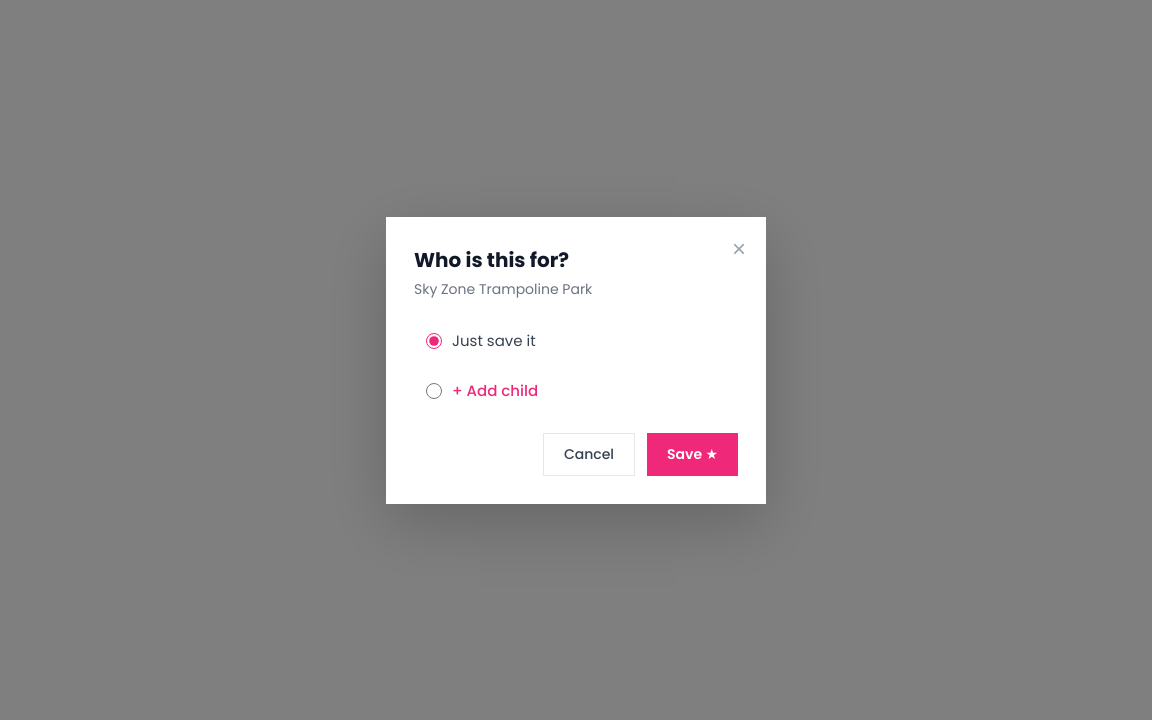
Test: SaveModal › clicking "Add child" reveals name and age fields
The image size is (1152, 720).
Click the radio button labelled "+ Add child".
click(434, 391)  # box [426,383,442,399]
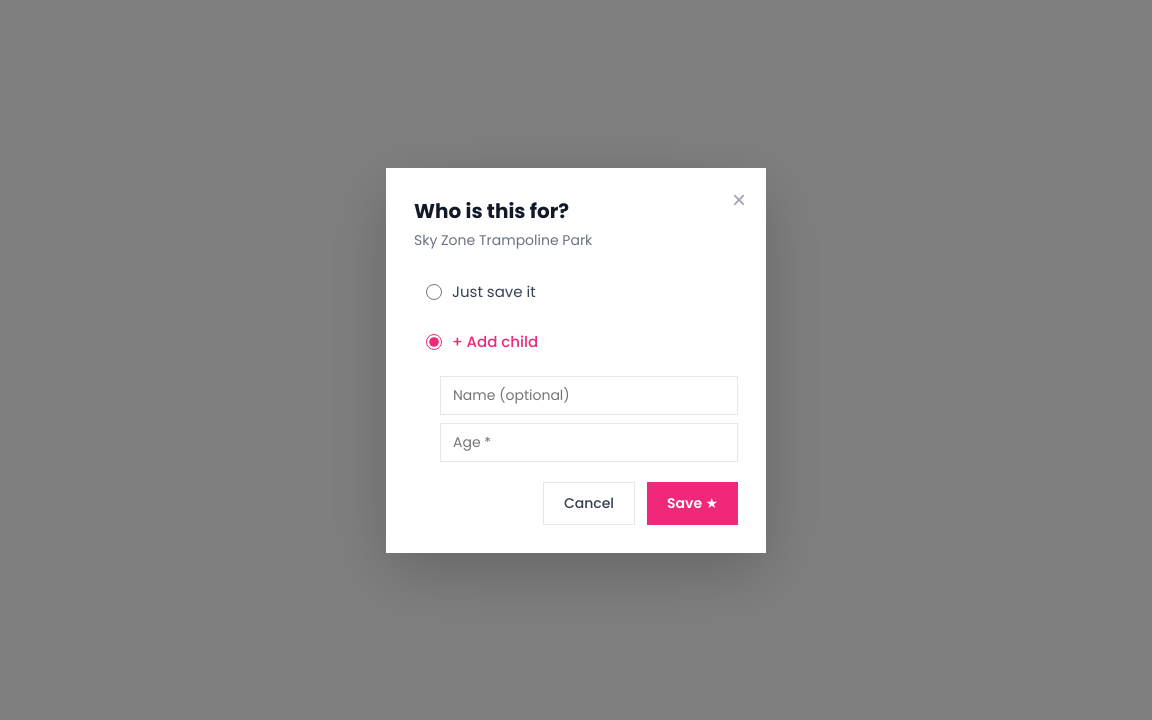
Expected: the field with placeholder "Name (optional)" is shown, [440,376,738,414]
Expected: the number field with placeholder "Age *" is shown, [440,422,738,462]
